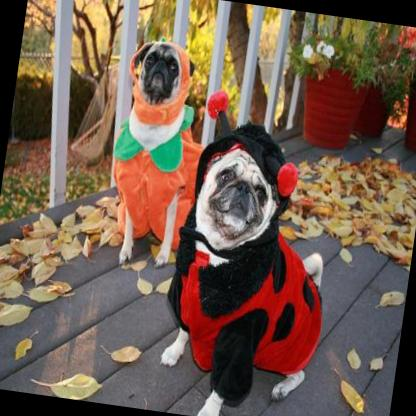pug: (150, 83, 352, 416), (97, 31, 219, 275)
